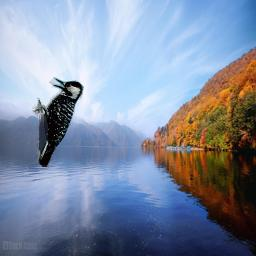Woodpecker: (32, 77, 85, 167)
